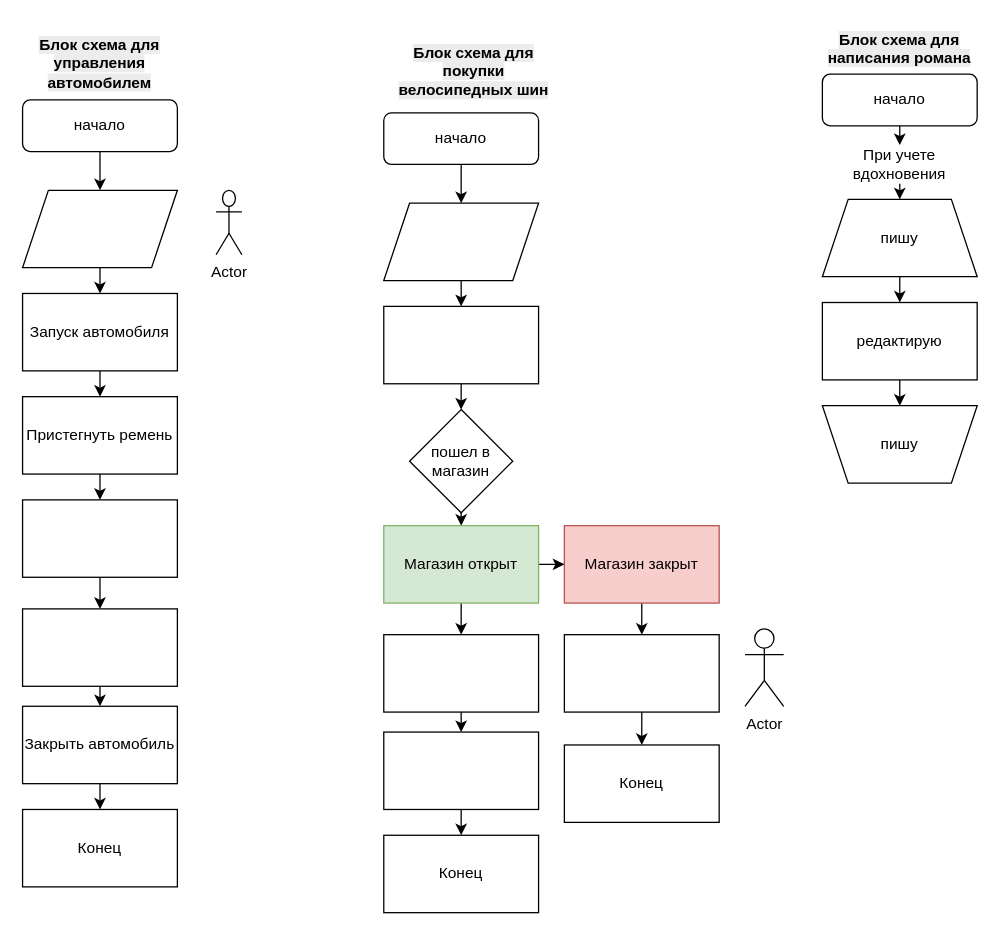
Image size: 1000x935. Some labels were removed from this diagram. Each missing label, with the centre of its shape:
"Выбрал шины" goes at pixel 460 672.
"Закончить движение в точке Б" goes at pixel 99 647.
"Заплатил" goes at pixel 460 770.
"Начать движение из точки А" goes at pixel 99 538.
"Нашел магазин в картах" goes at pixel 460 344.
"Обнаружил дырку" goes at pixel 460 241.
"Открыли дверь" goes at pixel 99 228.
"Плачу у порога" goes at pixel 641 672.
